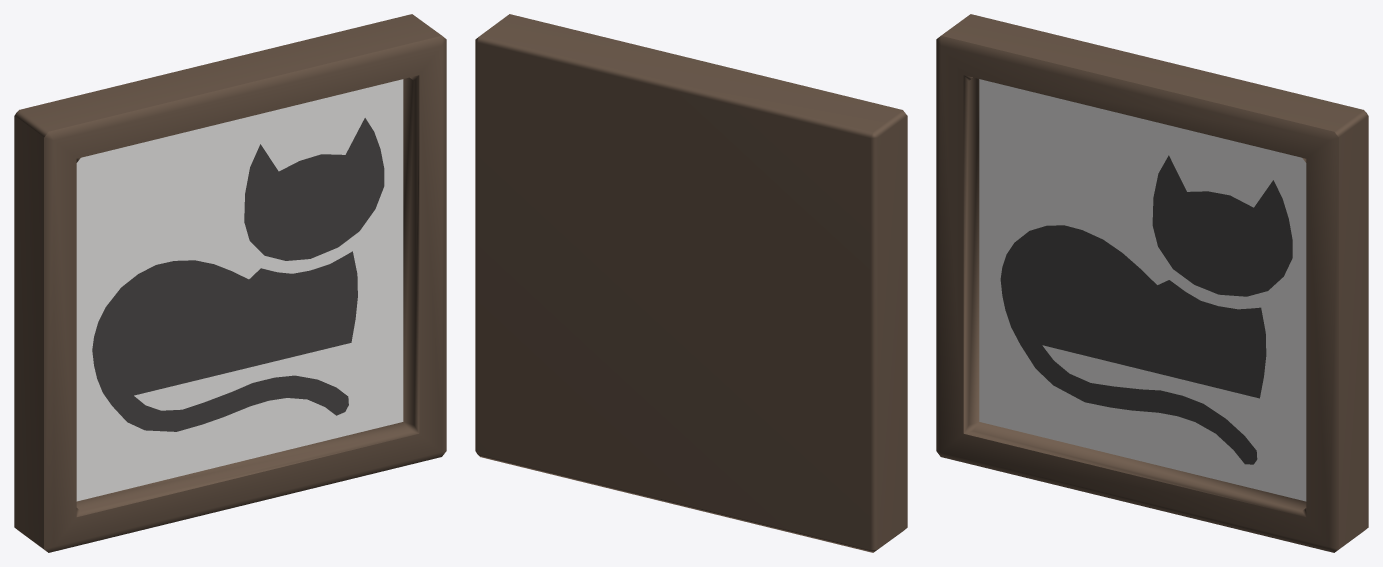
Rendered from Painting_13.glb.
3 views of the same model, side by side, from view 1: azimuth 30°, elevation 25°; view 2: azimuth 150°, elevation 25°; view 3: azimuth 330°, elevation 25° (orthographic).
Visible parts, largest first — view 1: Painting_13; view 2: Painting_13; view 3: Painting_13.
Boxes of the visible parts, bbox=[...] form: Painting_13: bbox=[14, 14, 446, 552]; Painting_13: bbox=[475, 14, 907, 552]; Painting_13: bbox=[936, 14, 1368, 552].
Bounding box in the file's own units: 0.6666 × 0.6666 × 0.1005.
Materials: 1 (1 with a texture image).
